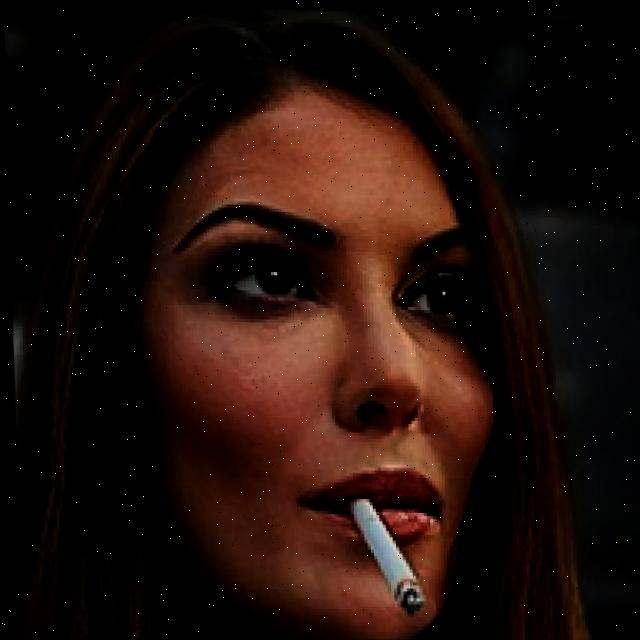cigarette: (341, 497, 425, 616)
